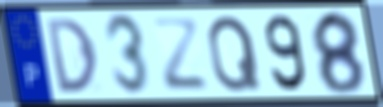3: (104, 10, 152, 101)
8: (309, 8, 370, 96)
9: (264, 13, 308, 94)
D: (43, 16, 100, 96)
Q: (206, 13, 264, 95)
Z: (149, 16, 211, 93)
